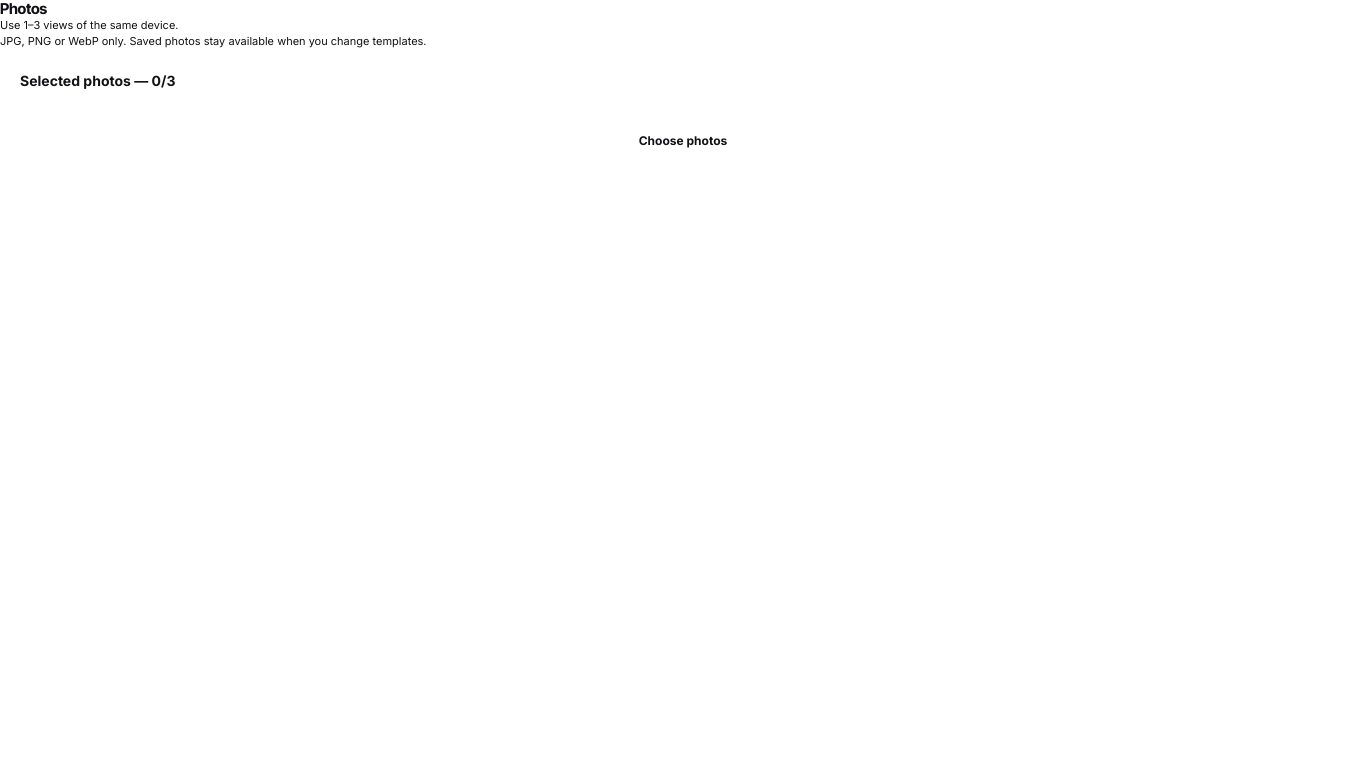
Test: library selection and local reconciliation › keeps library buttons inside supported product/presenter roles for premium-phone-reveal
The width and height of the screenshot is (1366, 768).
Click the button "Choose photos" at point(683, 141), box [14,117,1352,165]
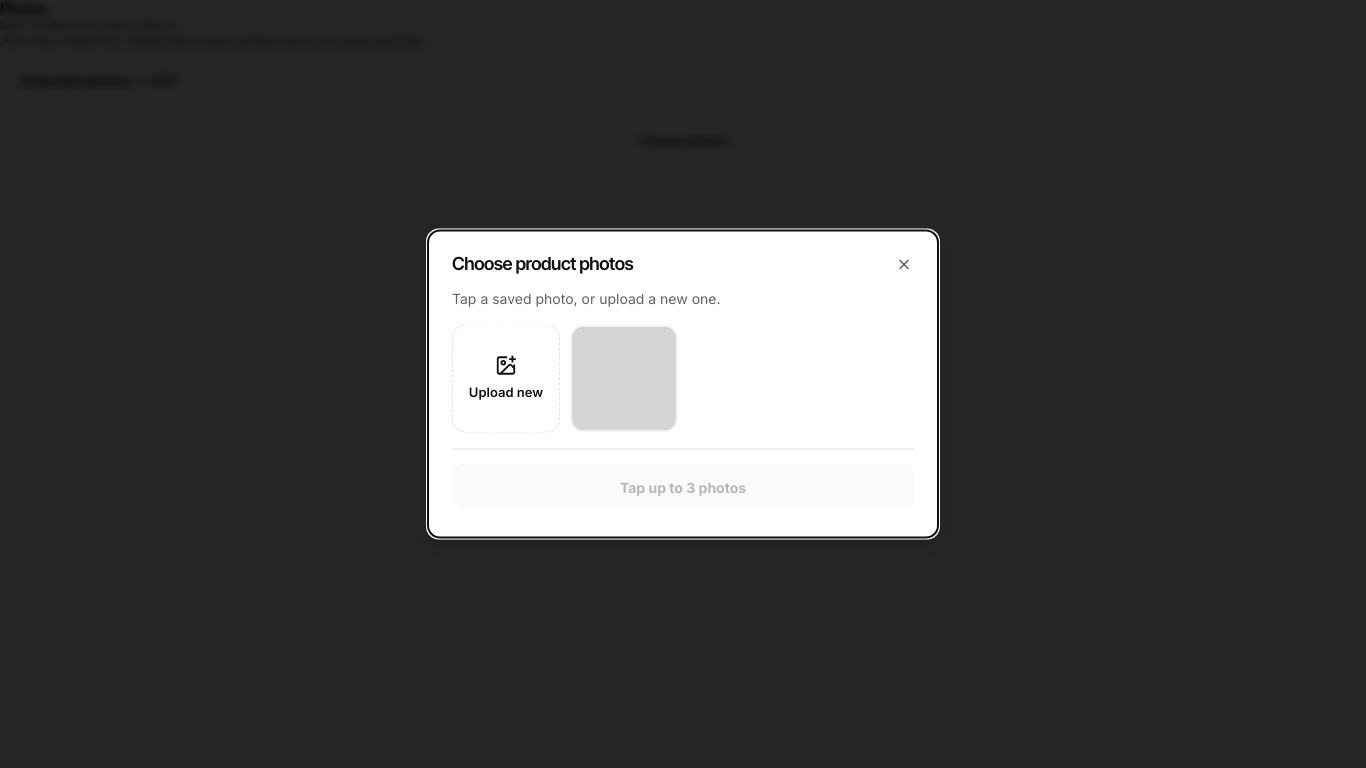
Expected: the button "Upload new" is shown, [452,324,560,432]
